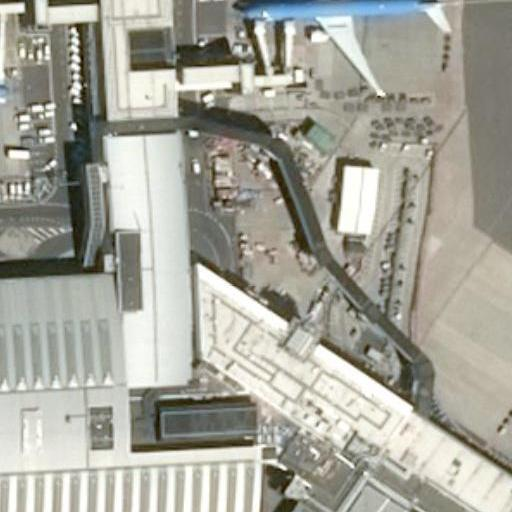Aircraft: (234, 0, 461, 93)
